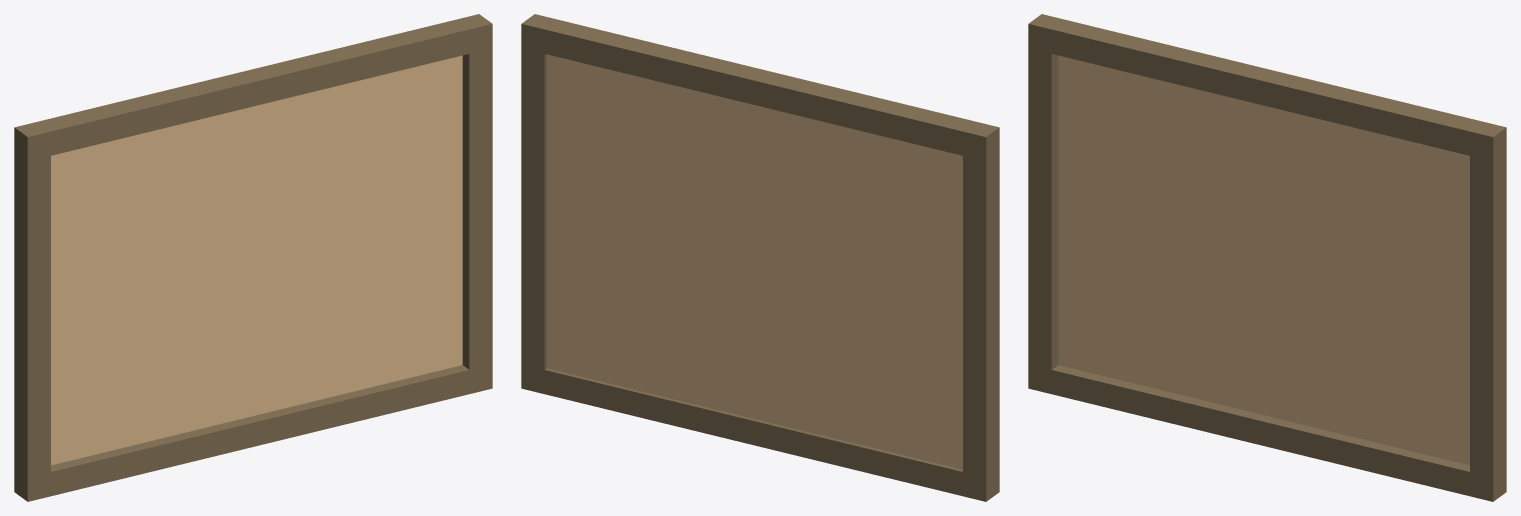
File: picture.glb
The picture shows the model from 3 angles, left to right: view 1: azimuth 30°, elevation 25°; view 2: azimuth 150°, elevation 25°; view 3: azimuth 330°, elevation 25°; orthographic projection.
Visible parts, largest first — view 1: canvas, frame-top, frame-bottom, frame-left, frame-right; view 2: canvas, frame-top, frame-bottom, frame-left, frame-right; view 3: canvas, frame-top, frame-bottom, frame-right, frame-left.
Part boxes in pixels (<box>): canvas: <box>51,55,462,465</box>; frame-top: <box>14,14,492,161</box>; frame-bottom: <box>14,364,492,501</box>; frame-left: <box>14,152,50,477</box>; frame-right: <box>462,48,492,369</box>; canvas: <box>547,54,962,469</box>; frame-top: <box>521,14,999,161</box>; frame-bottom: <box>521,364,999,501</box>; frame-left: <box>963,152,999,477</box>; frame-right: <box>521,48,546,369</box>; canvas: <box>1058,55,1469,465</box>; frame-top: <box>1028,14,1506,161</box>; frame-bottom: <box>1028,364,1506,501</box>; frame-right: <box>1470,152,1506,477</box>; frame-left: <box>1028,48,1058,369</box>.
Bounding box in the file's own units: 0.6 × 0.45 × 0.03.
